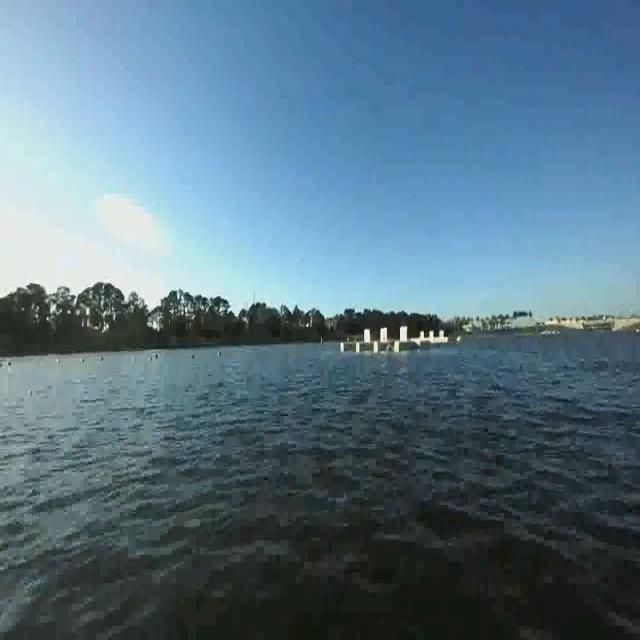red-dot: (381, 327, 388, 346)
